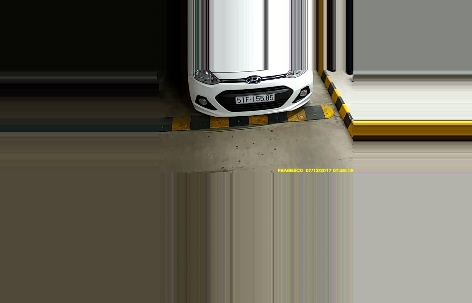plate: (236, 90, 275, 103)
